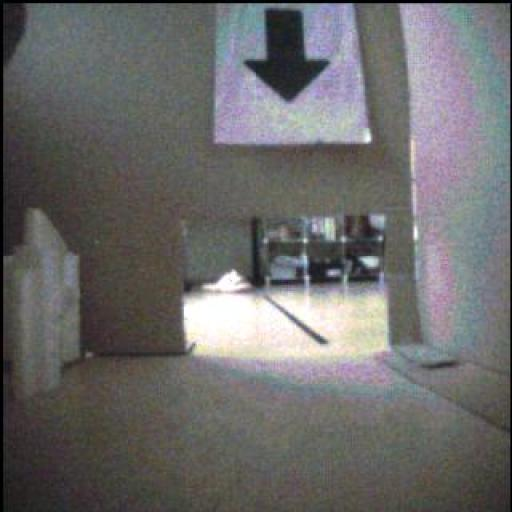arrow: (246, 11, 331, 102)
